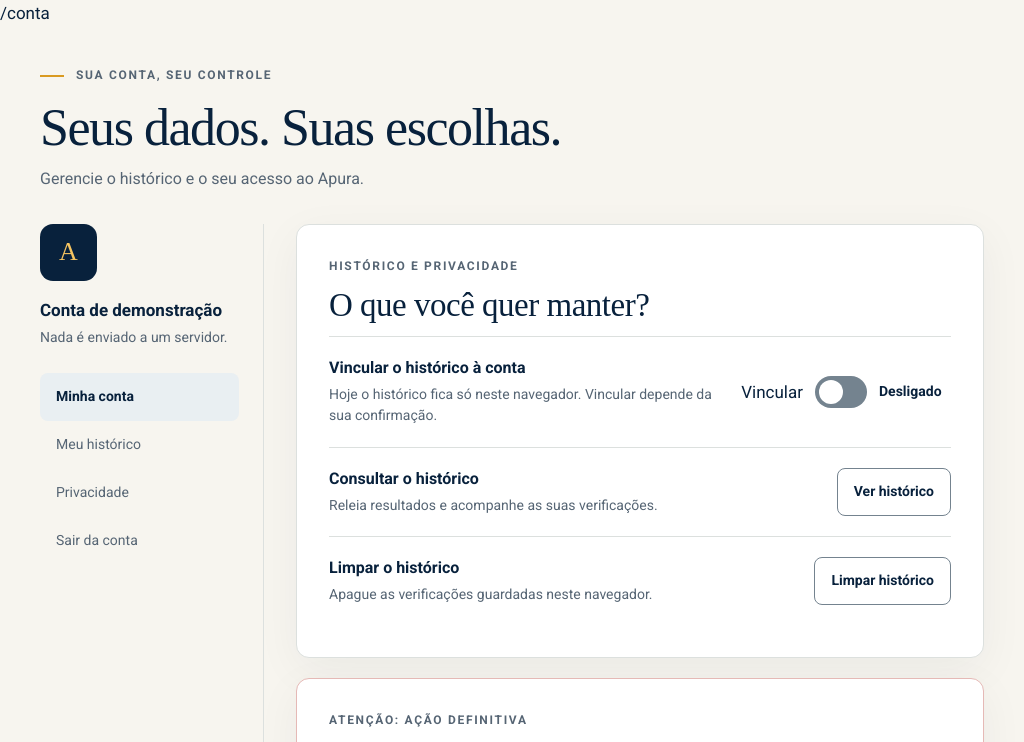
Test case: RF28: vincular o histórico › ligar a chave NÃO vincula: abre a pergunta, e nada acontece até a confirmação
Click the switch labelled "Vincular". click: click(841, 392)
box: [815,376,867,408]
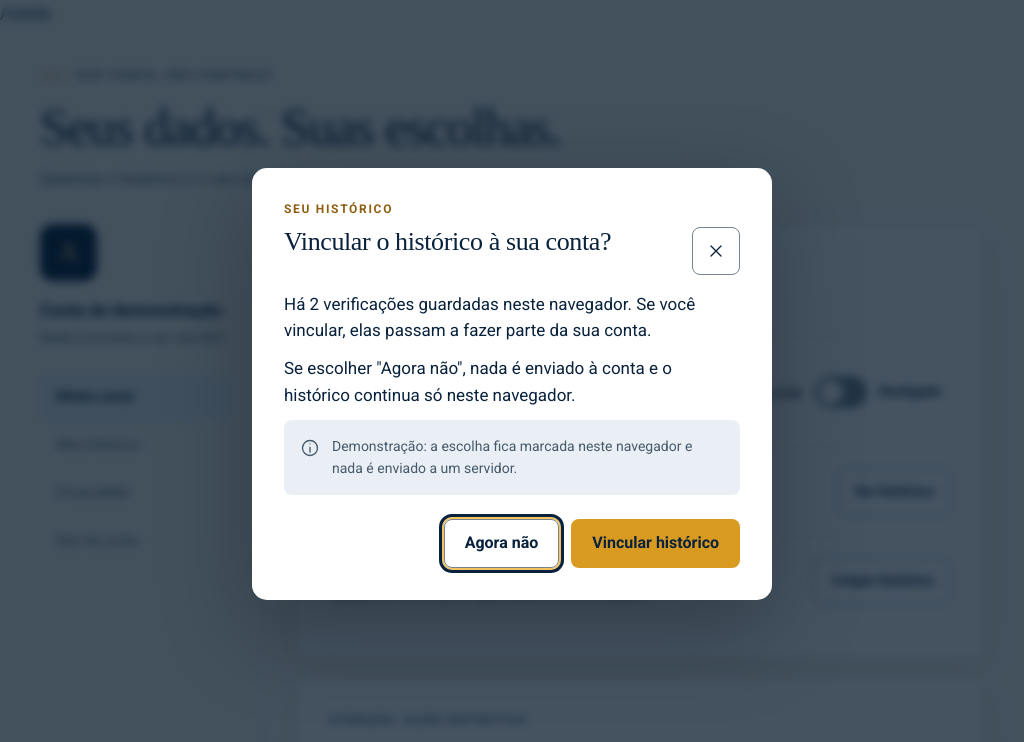
expect the dialog "Vincular o histórico à sua conta?" shows "Há 2 verificações guardadas neste navegador.": met, box [252,168,772,600]
